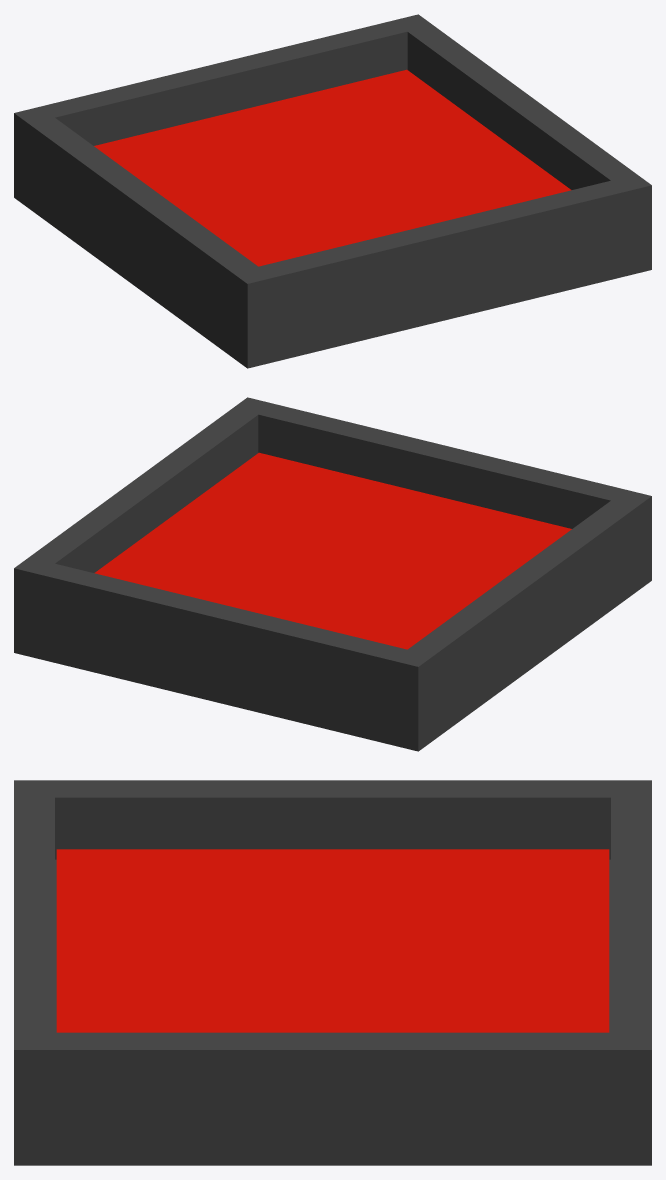
The model's file is BasicFurnace.fbx.
The picture shows the model from 3 angles, top to bottom: view 1: azimuth 30°, elevation 25°; view 2: azimuth 150°, elevation 25°; view 3: azimuth 270°, elevation 25°; orthographic projection. The views are drawn at different scales.
Visible parts, largest first — view 1: Cube, Plane; view 2: Cube, Plane; view 3: Cube, Plane.
Part boxes in pixels (bbox=[...]): Cube: bbox=[14, 14, 651, 368]; Plane: bbox=[94, 69, 571, 266]; Cube: bbox=[14, 397, 651, 751]; Plane: bbox=[94, 452, 571, 649]; Cube: bbox=[14, 780, 651, 1165]; Plane: bbox=[56, 849, 609, 1032].
Bounding box in the file's own units: 200 × 40 × 200.
